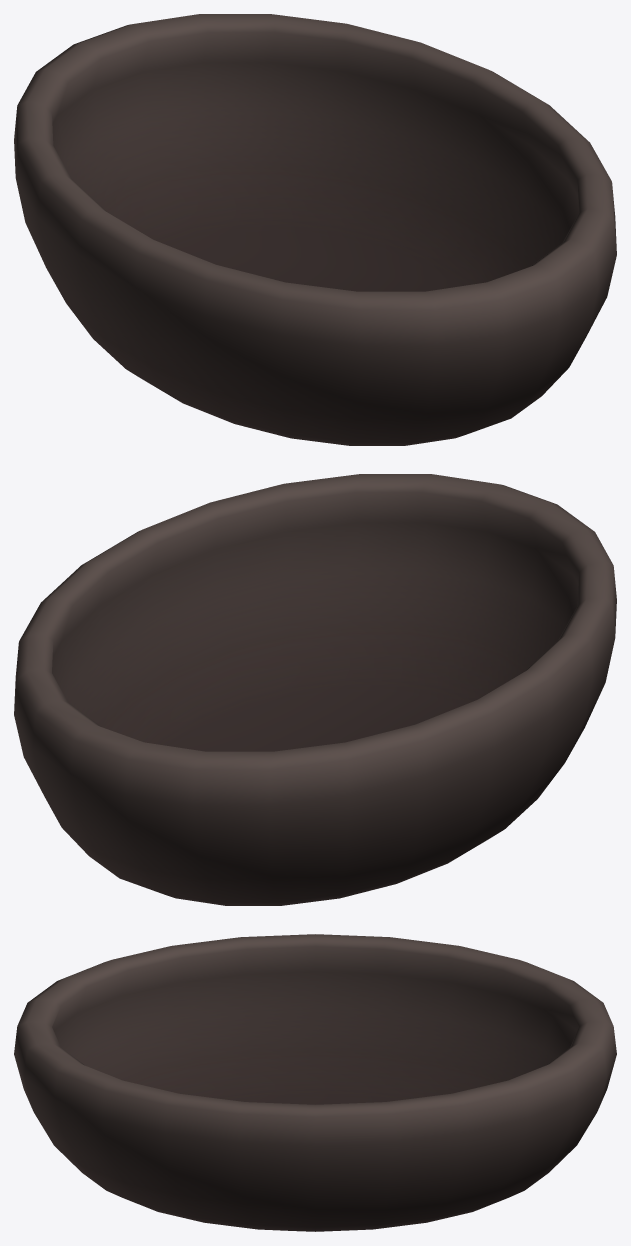
Rendered from bowl_002.fbx.
The picture shows the model from 3 angles, top to bottom: view 1: azimuth 30°, elevation 25°; view 2: azimuth 150°, elevation 25°; view 3: azimuth 270°, elevation 25°; orthographic projection. The views are drawn at different scales.
Visible parts, largest first — view 1: bowl_002; view 2: bowl_002; view 3: bowl_002.
Part boxes in pixels (<box>): bowl_002: <box>14,14,616,445</box>; bowl_002: <box>14,474,616,905</box>; bowl_002: <box>14,934,616,1231</box>.
Size of the model in its own units: 12.96 by 18.01 by 5.04.
